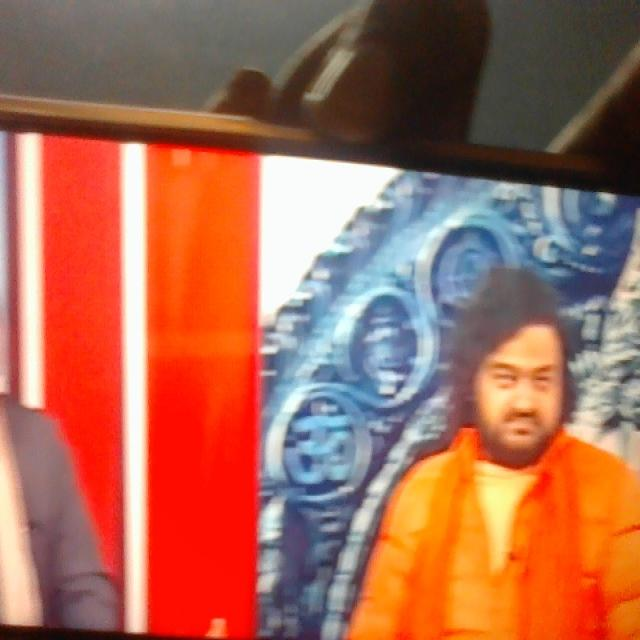fake: (457, 236, 583, 473)
